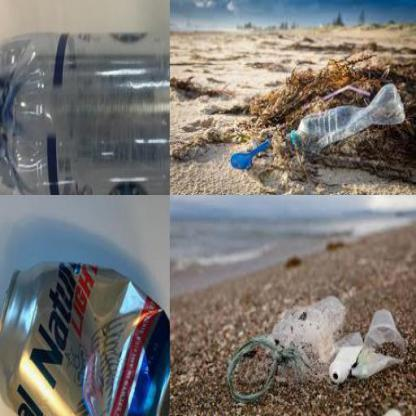can: (1, 262, 168, 416)
plastic bottle: (2, 33, 168, 194), (288, 83, 404, 145)
